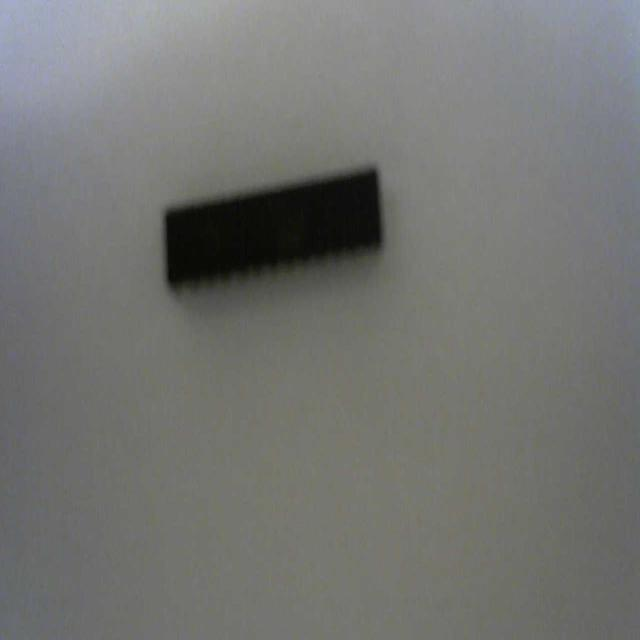atmega: (161, 161, 385, 293)
